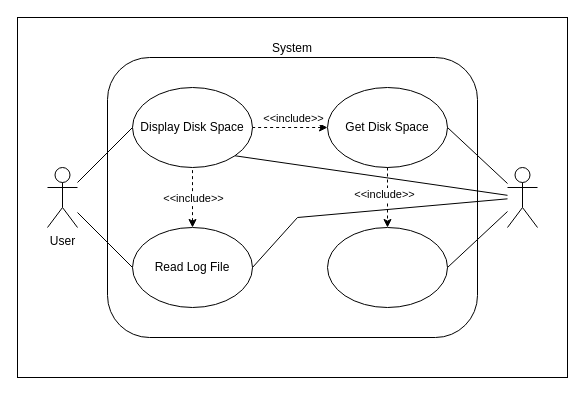
This 585x395 diagram has some shape labels left out. The shapes that lost their labels are listed below. From the top down, each one's centre as x and y in pixels, then its label:
At (522,197): "<<system>>".
At (387,267): "Write Log File".
